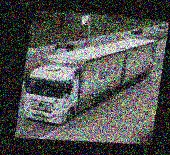truck: (17, 21, 165, 141)
